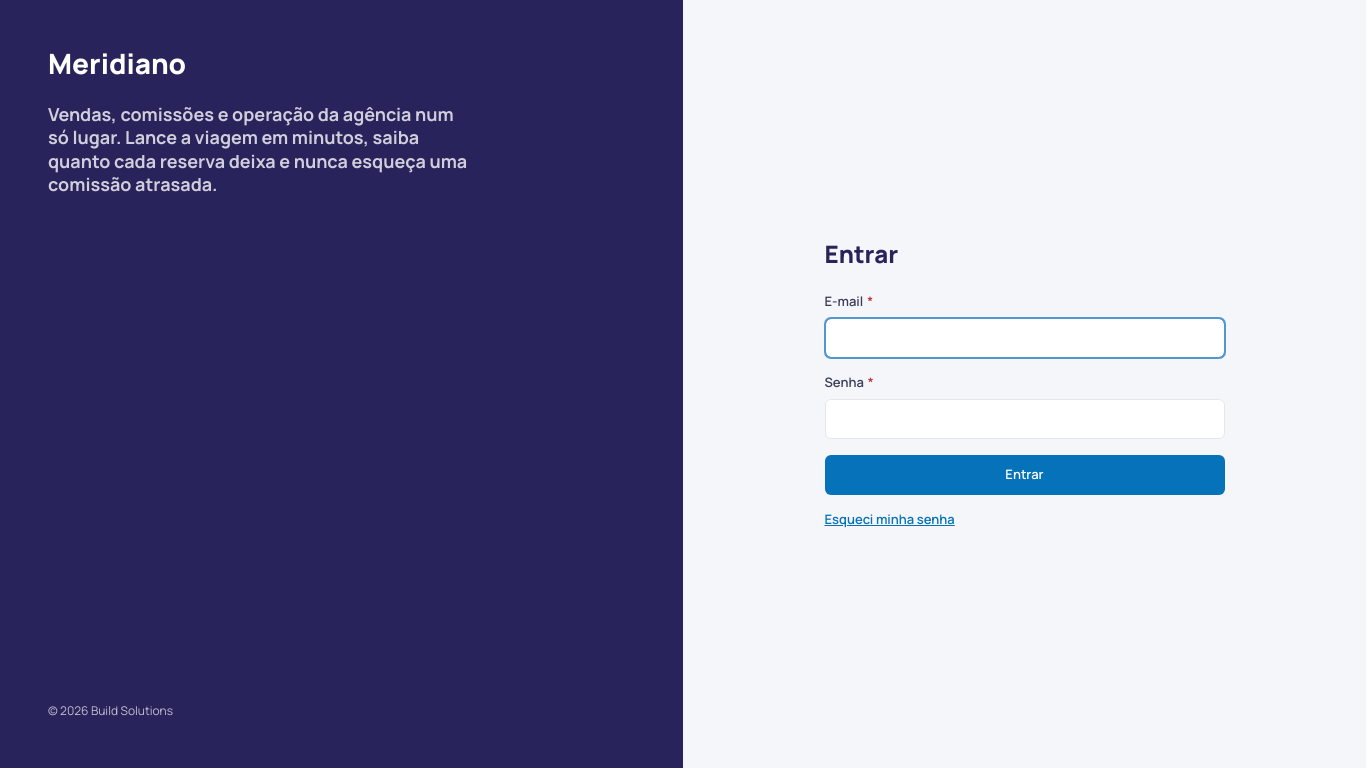
Test: 429 conta_bloqueada mostra 'Muitas tentativas. Tente em N min.'
Step 1. Type "a@b.com" into the field labelled "E-mail *" → (1024, 338), box [824,318,1224,358]
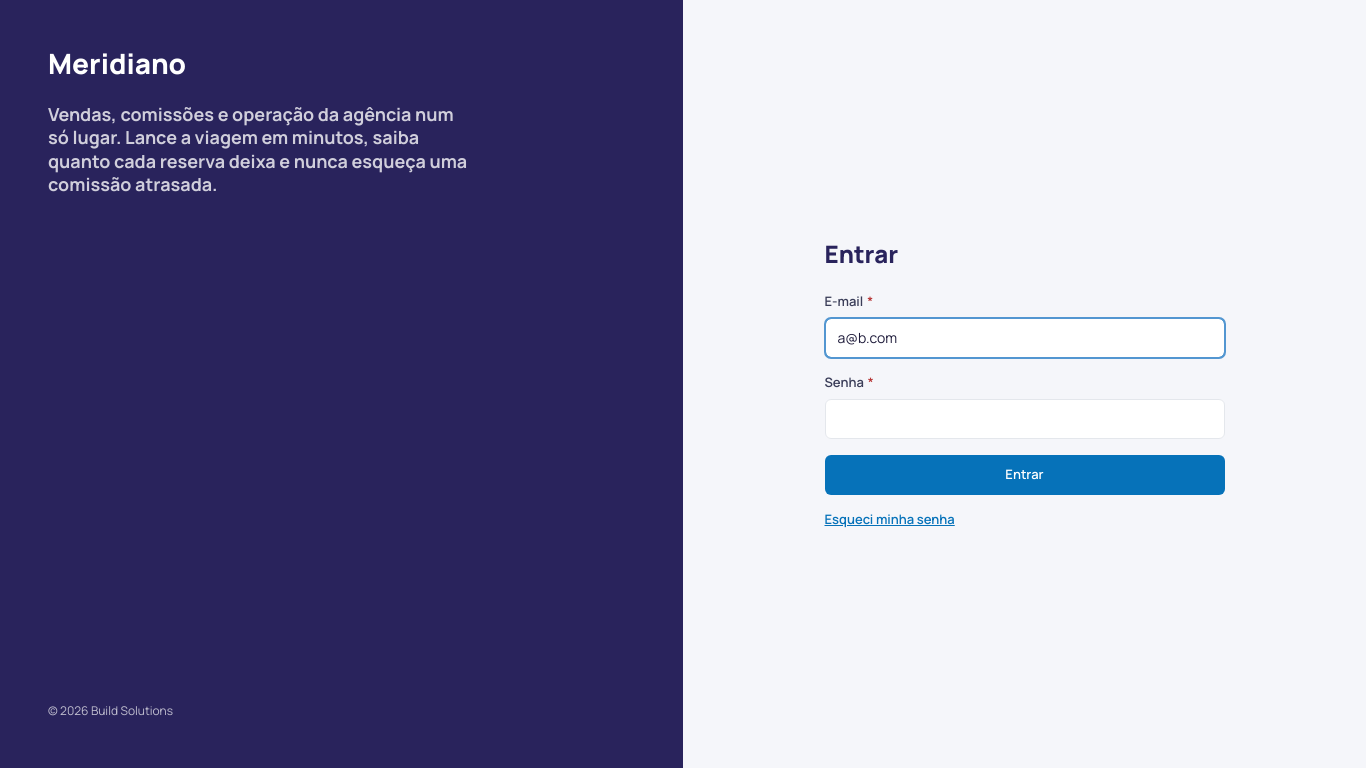
Step 2. Type "errada" into the password field labelled "Senha *" → (1024, 419), box [824,399,1224,439]
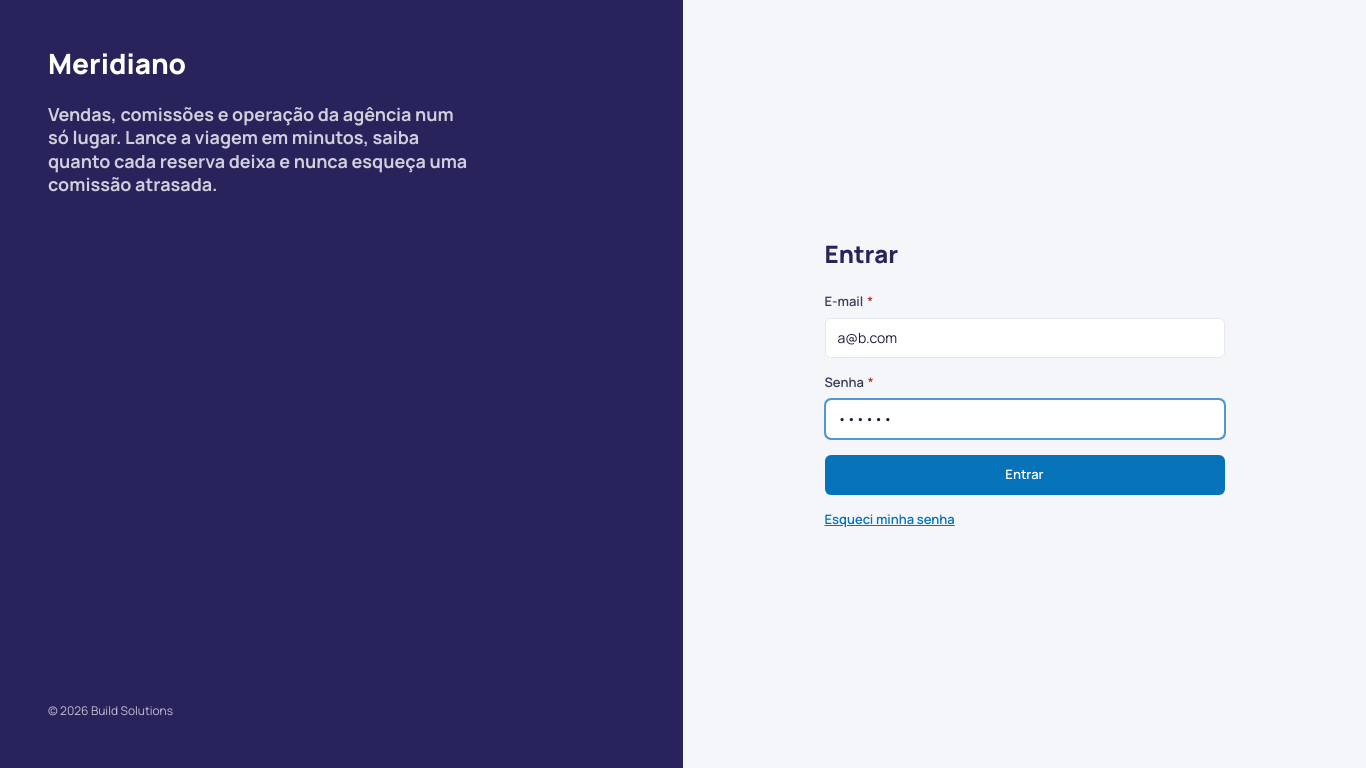
Step 3. Click the button "Entrar" → (1024, 475), box [824,455,1224,495]
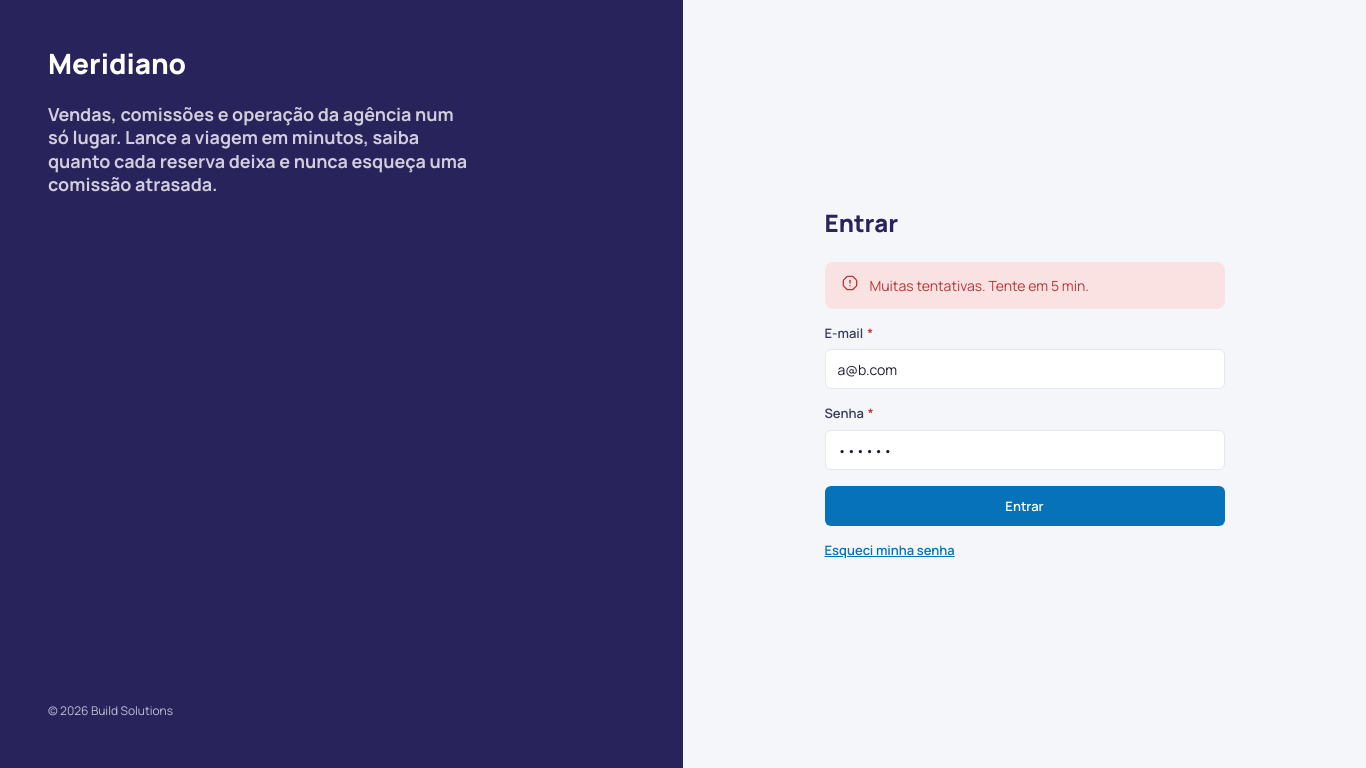
expect the message reads "Muitas tentativas. Tente em 5 min.": met, box [870,276,1089,295]
